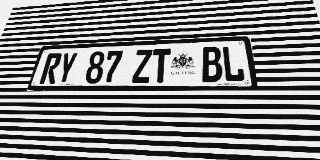7: (101, 50, 123, 83)
8: (84, 51, 106, 84)
B: (201, 46, 223, 82)
L: (221, 46, 245, 82)
R: (39, 53, 63, 84)
T: (151, 49, 171, 83)
Y: (55, 52, 78, 84)
Z: (132, 49, 152, 83)
